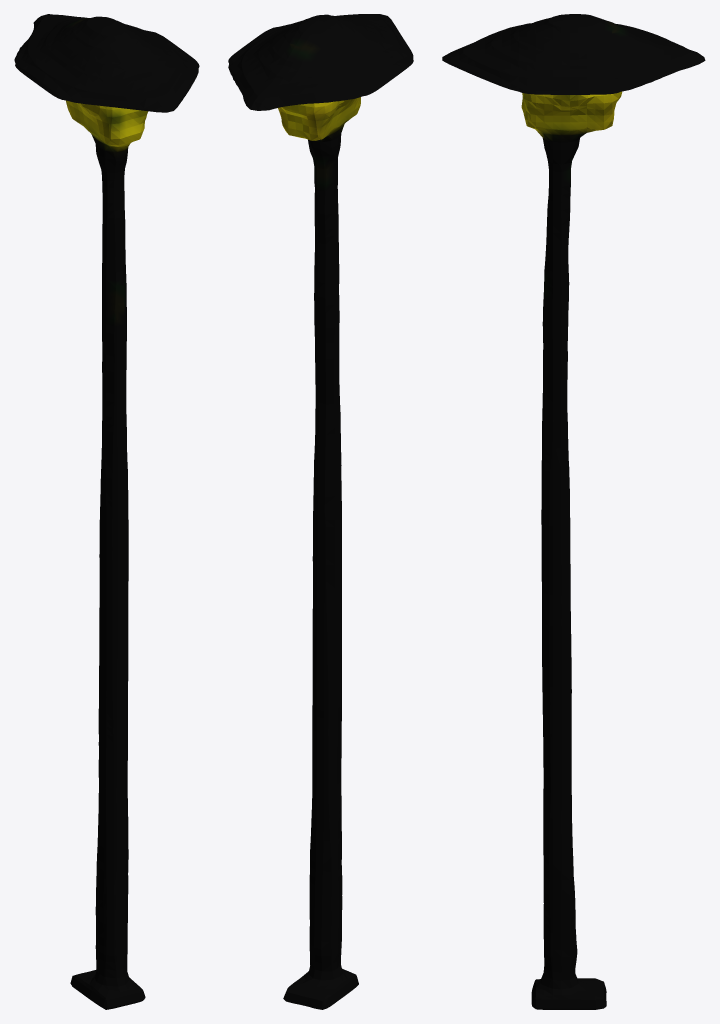
3 renders of one model, left to right at view 1: azimuth 30°, elevation 25°; view 2: azimuth 150°, elevation 25°; view 3: azimuth 270°, elevation 25°, orthographic.
Parts seen in each view (by area): view 1: tmpku9dv5k1.ply; view 2: tmpku9dv5k1.ply; view 3: tmpku9dv5k1.ply.
Part boxes in pixels (x1=…): tmpku9dv5k1.ply: x1=14, y1=14, x2=199, y2=1009; tmpku9dv5k1.ply: x1=228, y1=14, x2=413, y2=1009; tmpku9dv5k1.ply: x1=442, y1=14, x2=705, y2=1009.
Bounding box in the file's own units: 0.3083 × 1.98 × 0.4805.
